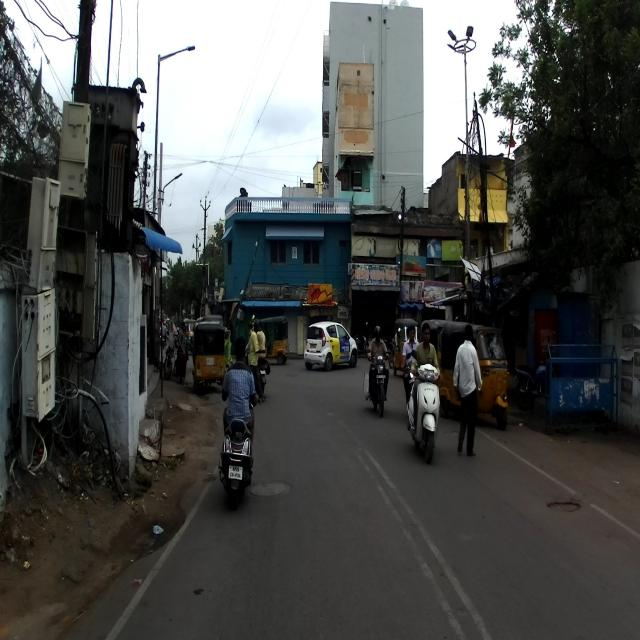autorickshaw: (438, 321, 508, 433)
car: (300, 318, 358, 375)
motorcycle: (406, 346, 441, 466), (365, 349, 391, 419)
scooter: (217, 377, 261, 511)
